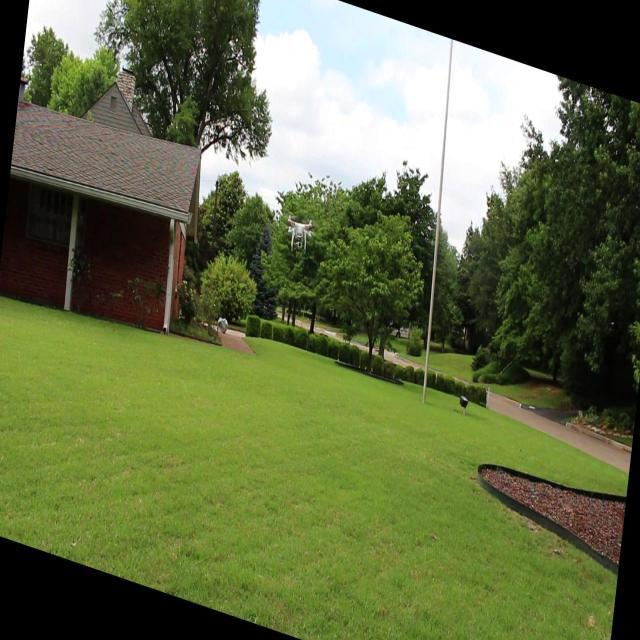drone: (282, 207, 316, 255)
